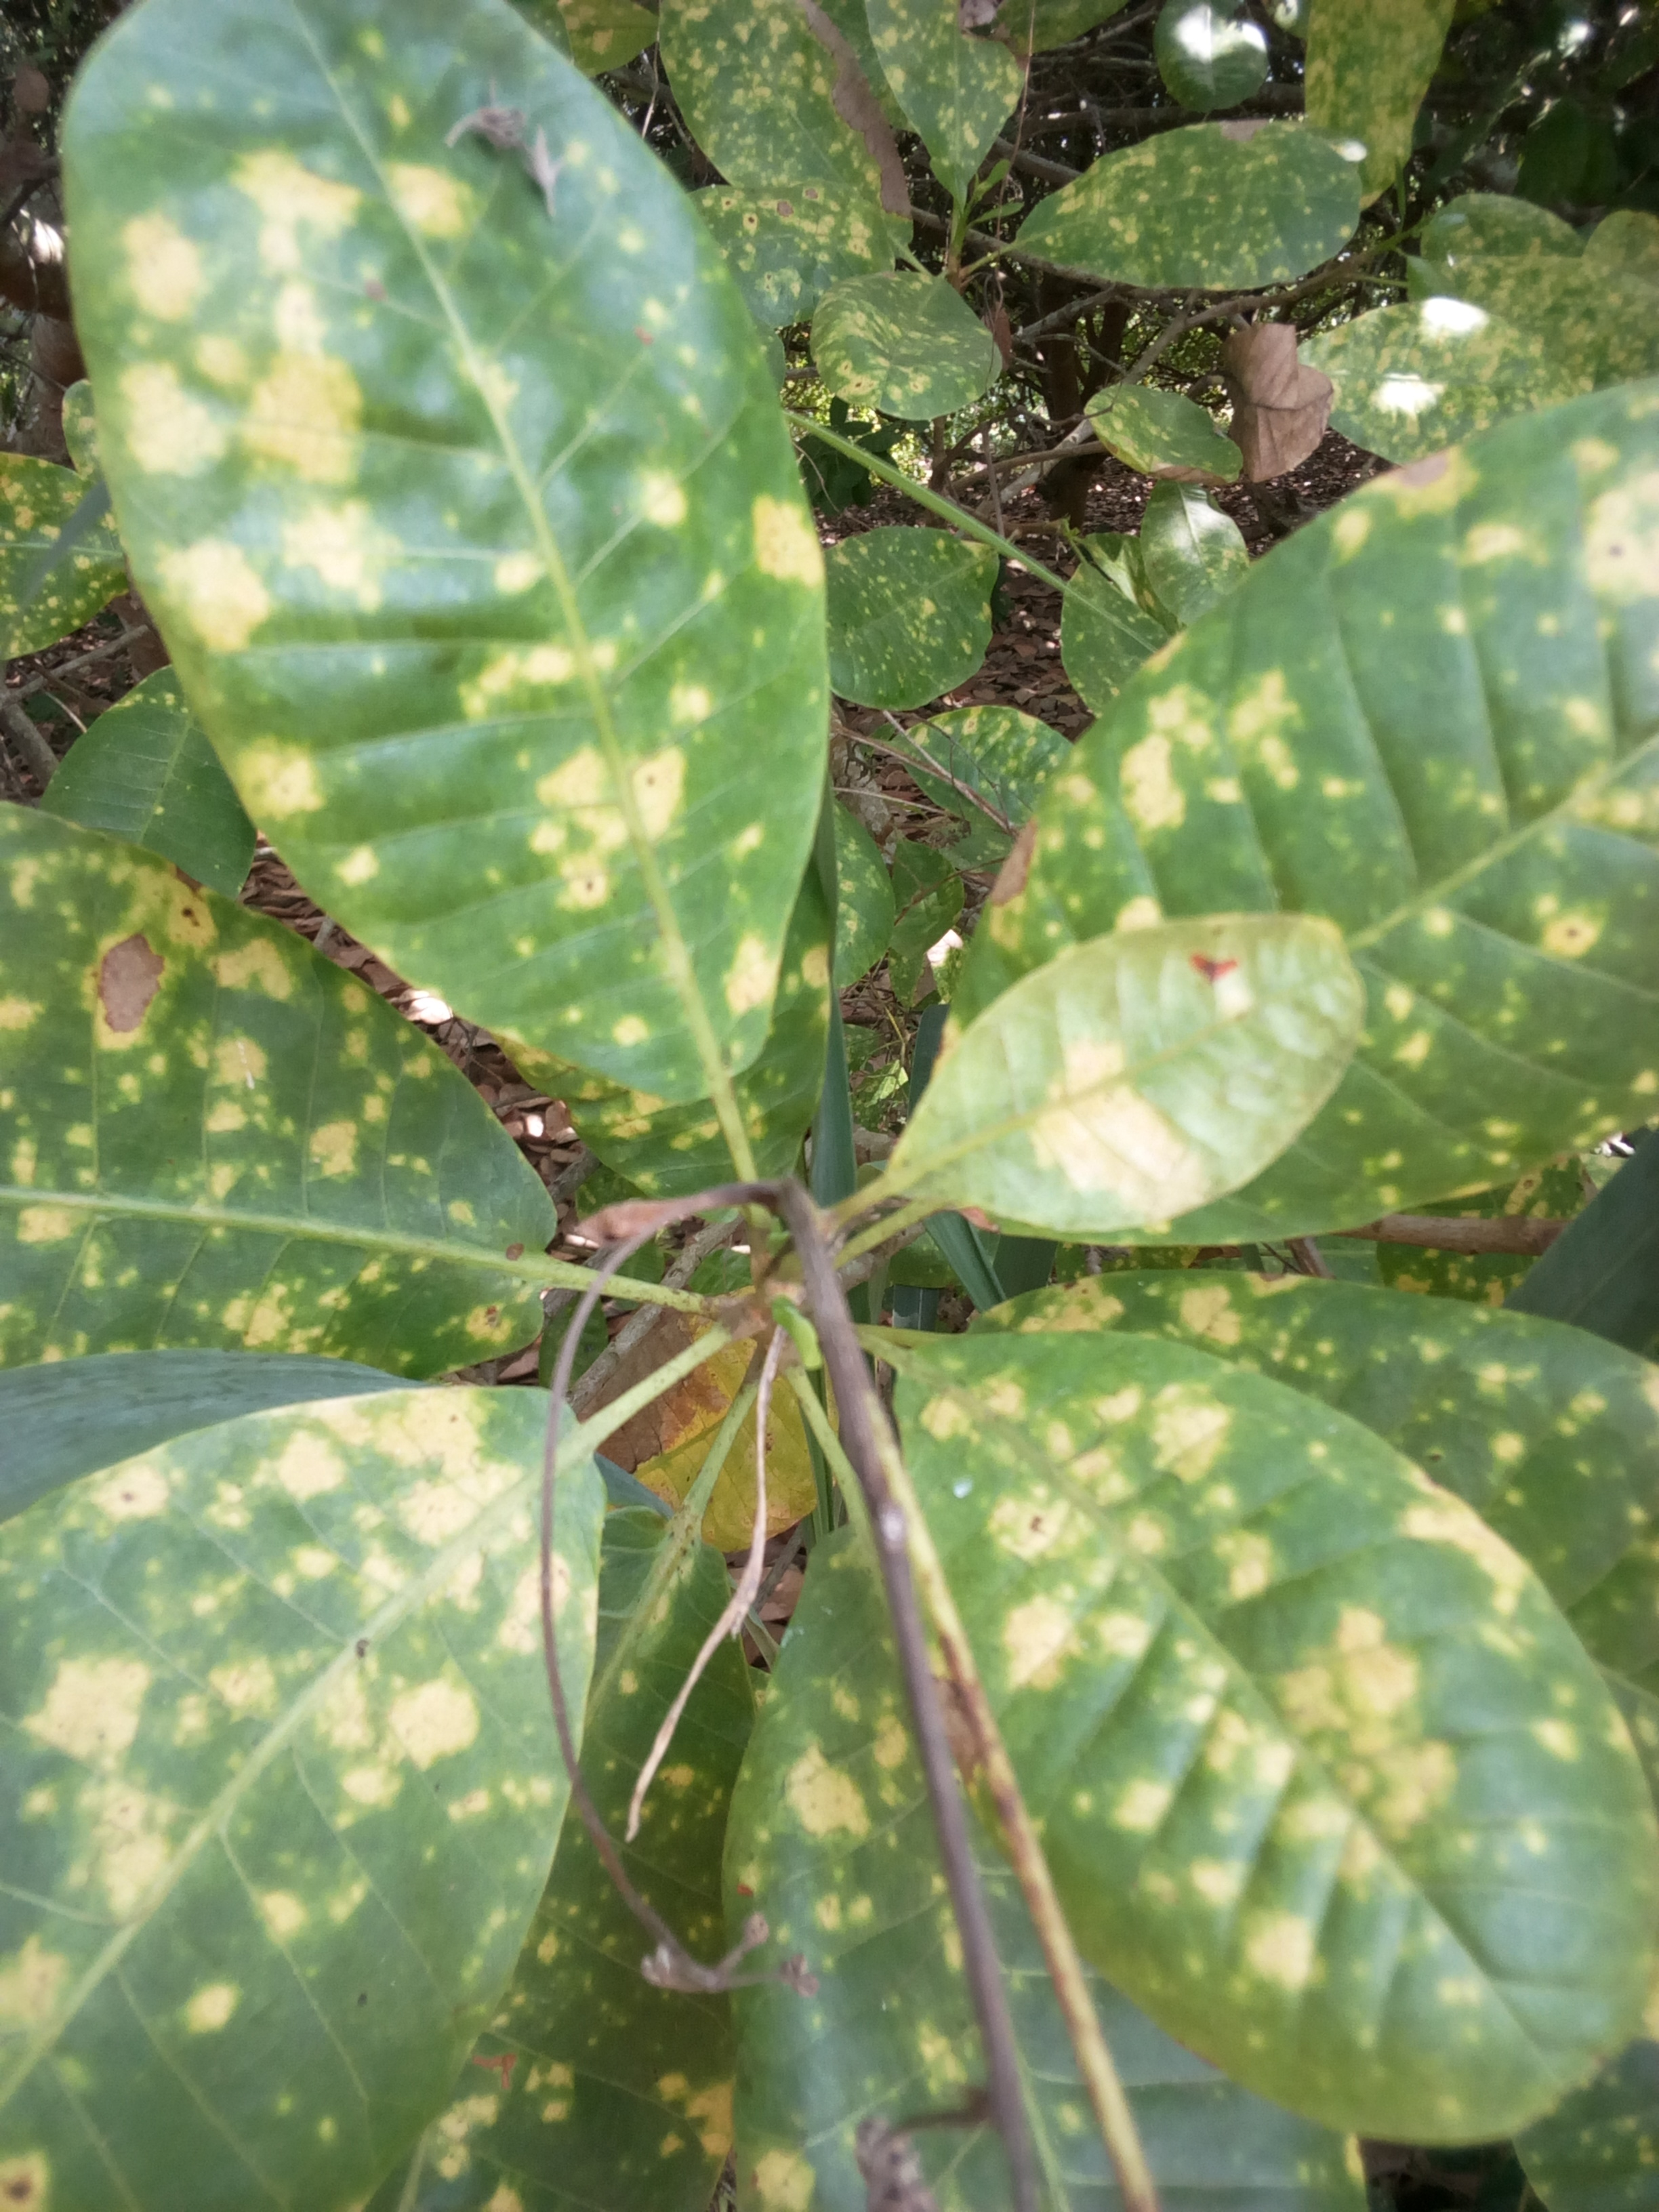Carence minérale: (70, 0, 908, 1113), (836, 1313, 1652, 2156), (915, 390, 1659, 1268), (0, 1374, 681, 2177), (9, 791, 561, 1364), (887, 899, 1412, 1249)
